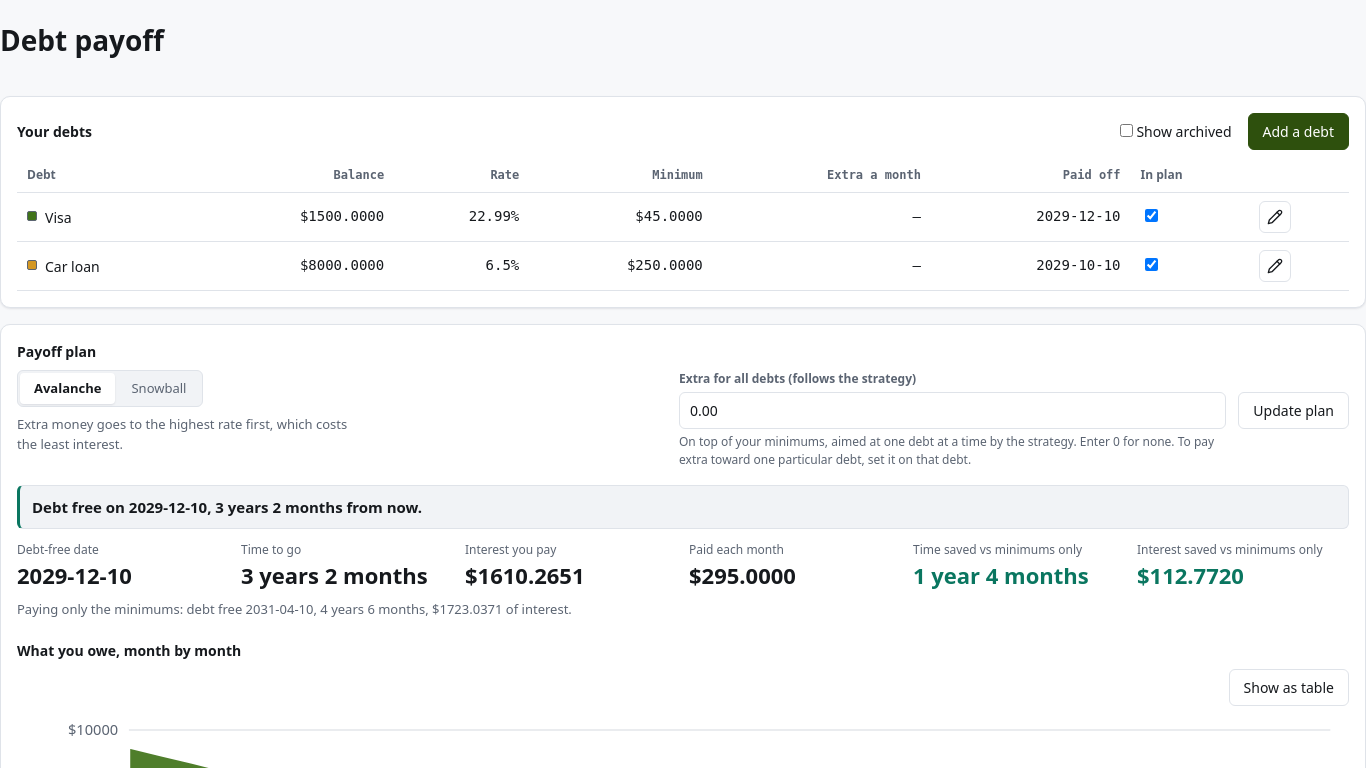
Test: adding and editing a debt › edits a saved debt from its values and can archive it
expect the text "Debt free on 2029-12-10, 3 years 2 months from now." is shown: met, box [17, 484, 1349, 529]
Click the button named "Edit Visa" at coordinates (1275, 216), box [1259, 200, 1291, 232]
(page scrolled)
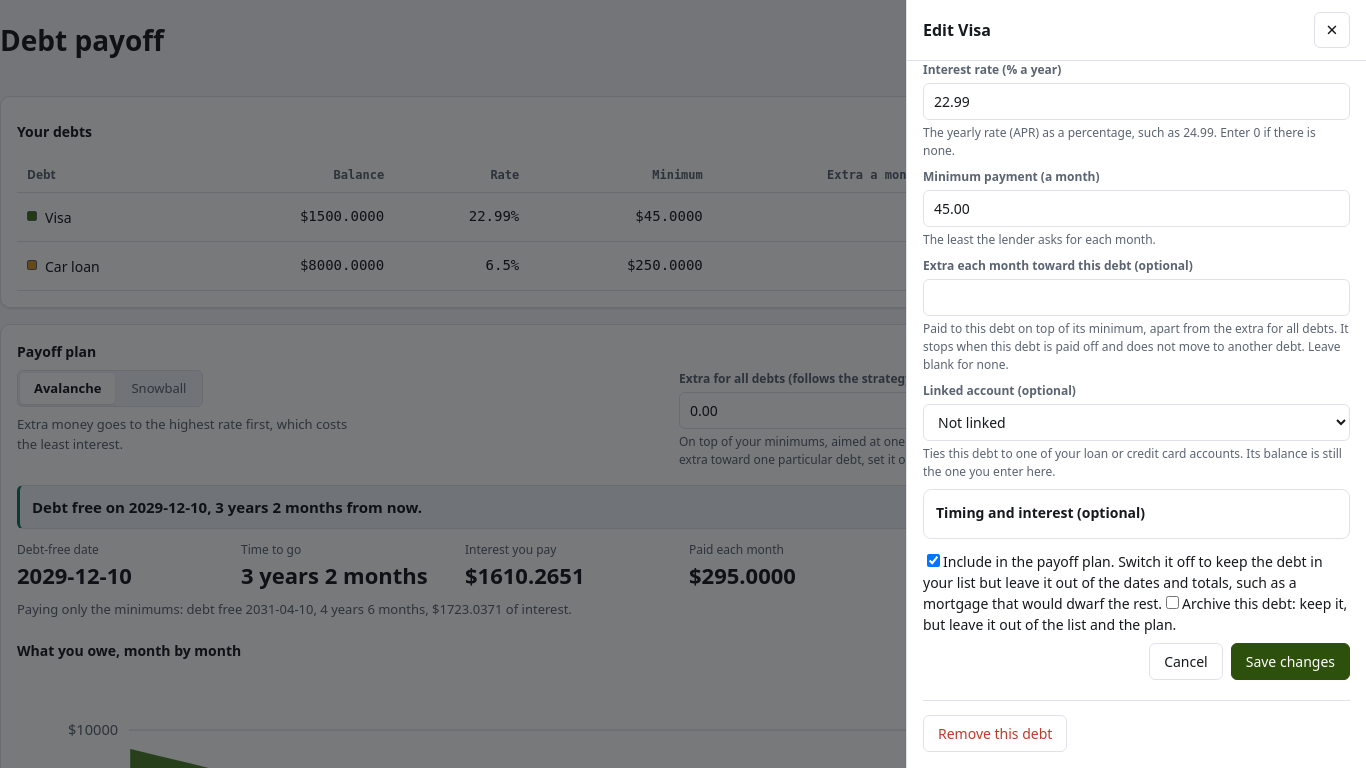
expect the field labelled "Interest rate (% a year)" holds "22.99": met, box [923, 83, 1350, 120]
Click the checkbox labelled "Archive this debt" at coordinates (1173, 602), box [1166, 596, 1179, 609]
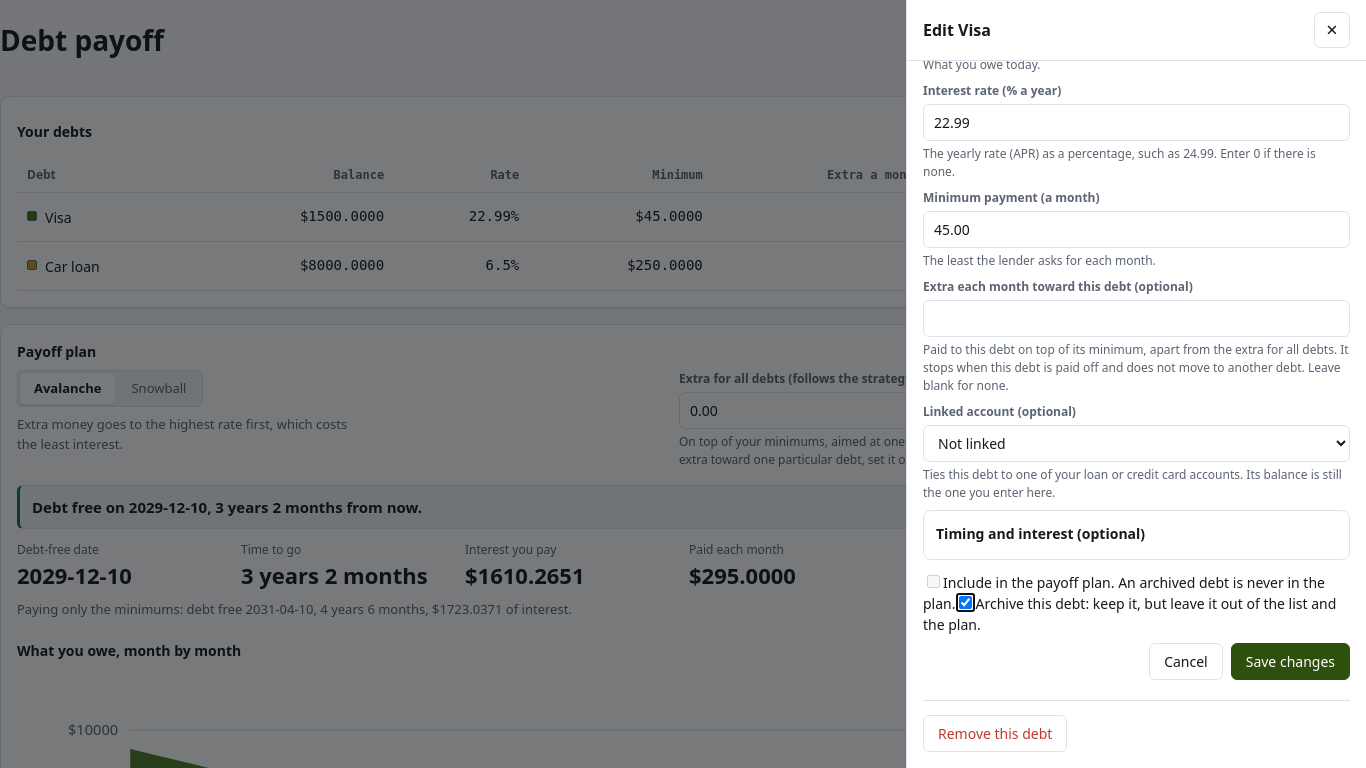
Click the button "Save changes" at coordinates (1290, 662), box [1231, 643, 1350, 680]
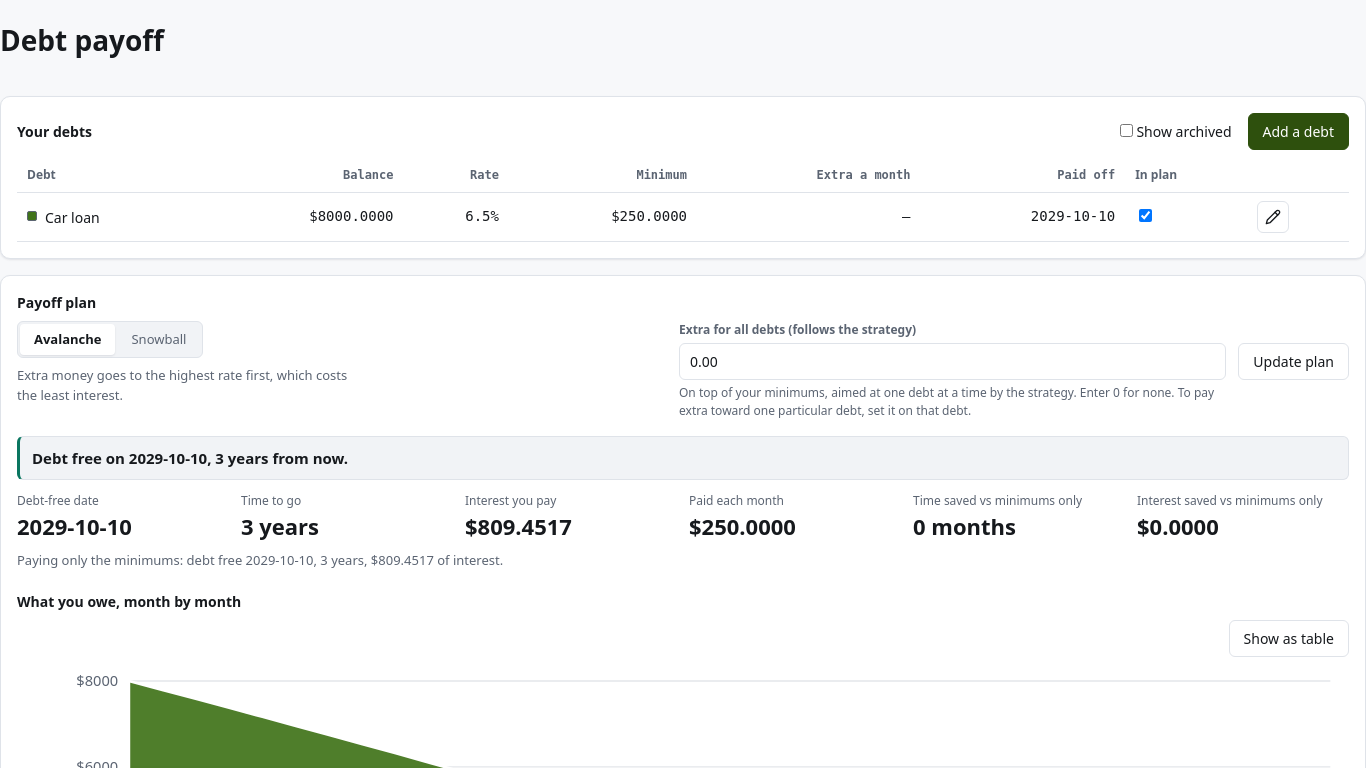
expect the dialog is gone: met
expect the heading "Edit Visa" is gone: met
